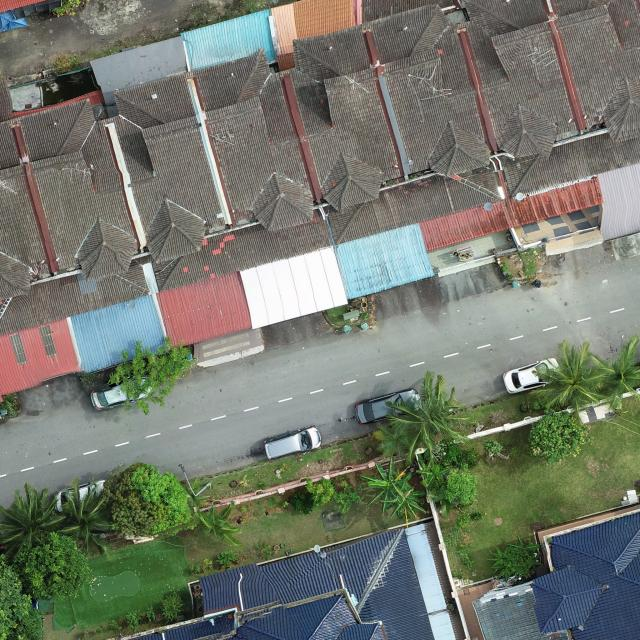banana_tree2: (361, 454, 414, 514), (381, 480, 426, 529), (416, 460, 452, 490), (507, 533, 541, 559), (490, 561, 512, 583), (486, 546, 510, 566), (524, 552, 544, 571)
tree: (385, 370, 473, 465), (529, 338, 616, 425), (97, 462, 192, 538), (108, 335, 192, 415), (11, 531, 90, 601), (0, 482, 66, 560), (57, 477, 116, 557), (0, 552, 50, 639), (586, 334, 640, 409), (524, 410, 595, 466), (193, 499, 245, 547), (371, 416, 412, 460), (446, 469, 479, 504), (332, 480, 365, 514), (180, 477, 208, 510), (304, 478, 336, 506), (160, 591, 186, 624), (508, 546, 530, 577), (438, 438, 462, 465), (286, 492, 314, 515), (52, 0, 81, 17), (484, 438, 504, 458), (125, 609, 143, 631), (144, 605, 156, 623)
